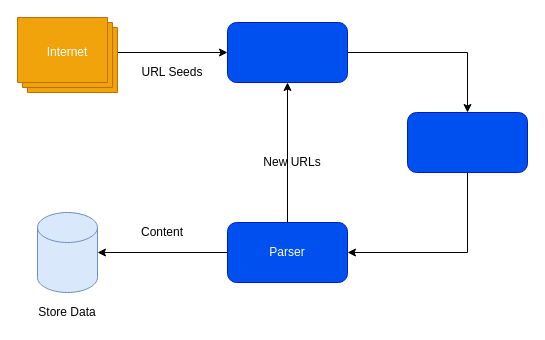
The diagram is 545 pixels wide and 340 high, and some of its shapes have lost their labels. Here are the shapes that lost their labels. From the top down, the centre of each, then its label:
At (287,52): "URL Manager".
At (467,142): "Downloader".
